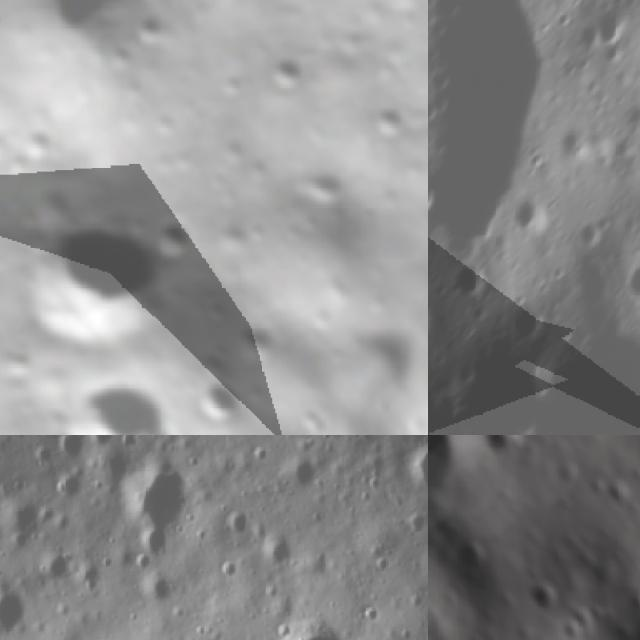crater: (0, 183, 200, 392), (30, 350, 203, 435), (522, 319, 640, 435), (0, 0, 167, 75), (274, 142, 364, 229), (117, 462, 189, 549), (182, 362, 258, 435), (140, 203, 212, 276), (119, 0, 182, 61), (256, 44, 316, 104), (0, 490, 46, 564), (257, 609, 351, 640), (364, 96, 416, 150), (12, 121, 60, 168), (594, 0, 634, 54), (280, 455, 323, 500), (453, 535, 493, 583), (512, 191, 553, 237), (139, 568, 187, 607), (400, 438, 428, 504), (554, 124, 602, 162), (513, 299, 553, 344), (0, 583, 30, 640), (452, 260, 492, 300), (70, 559, 106, 603), (262, 535, 301, 574), (148, 105, 186, 142), (51, 472, 85, 511), (215, 68, 251, 104), (523, 580, 560, 614), (220, 507, 254, 542), (3, 149, 34, 182), (54, 435, 85, 465), (482, 435, 520, 459), (622, 258, 640, 304), (428, 175, 444, 220), (625, 94, 640, 136), (556, 621, 588, 640), (87, 435, 120, 453), (0, 6, 9, 40)
